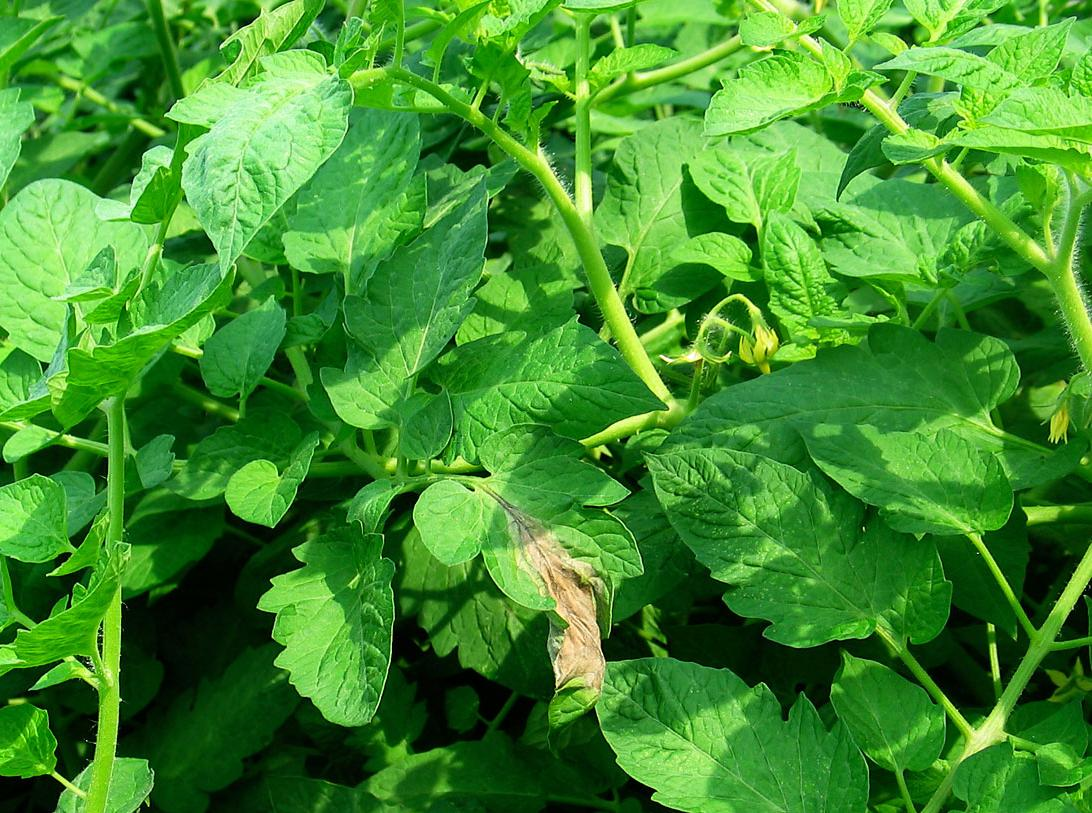Tomato leaf: (644, 435, 949, 683), (318, 160, 512, 462), (588, 669, 877, 813), (253, 492, 402, 737), (277, 77, 422, 328), (815, 396, 1005, 559), (0, 169, 141, 362), (823, 647, 953, 779), (689, 61, 857, 134)
Tomato leaf late blight: (425, 454, 640, 669)
